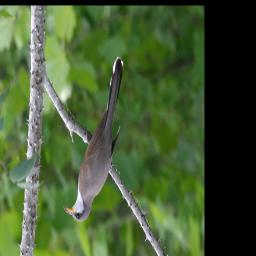Cuckoo: (64, 55, 126, 224)
